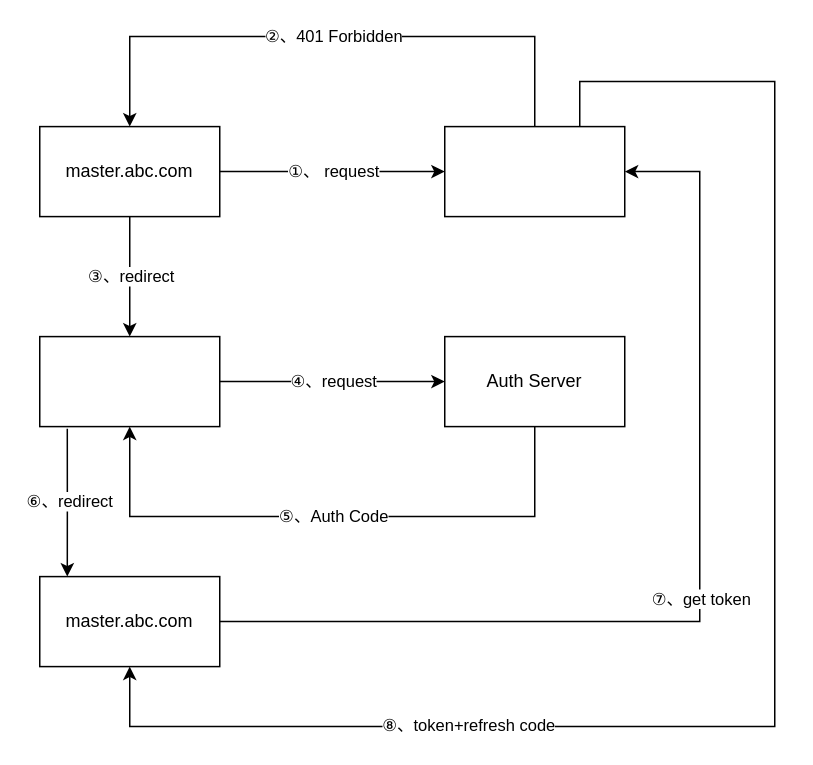
The diagram is 813 pixels wide and 765 high, and some of its shapes have lost their labels. Here are the shapes that lost their labels. From the top down, the centre of each, then its label:
the point at 534,171: Business Server
the point at 129,381: sso.abc.com
